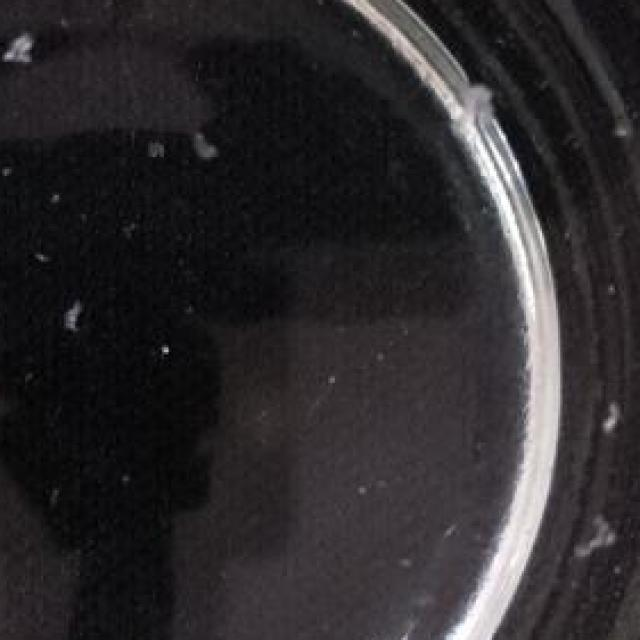Microplastic: (451, 66, 506, 154), (576, 495, 617, 580), (0, 14, 48, 76)
